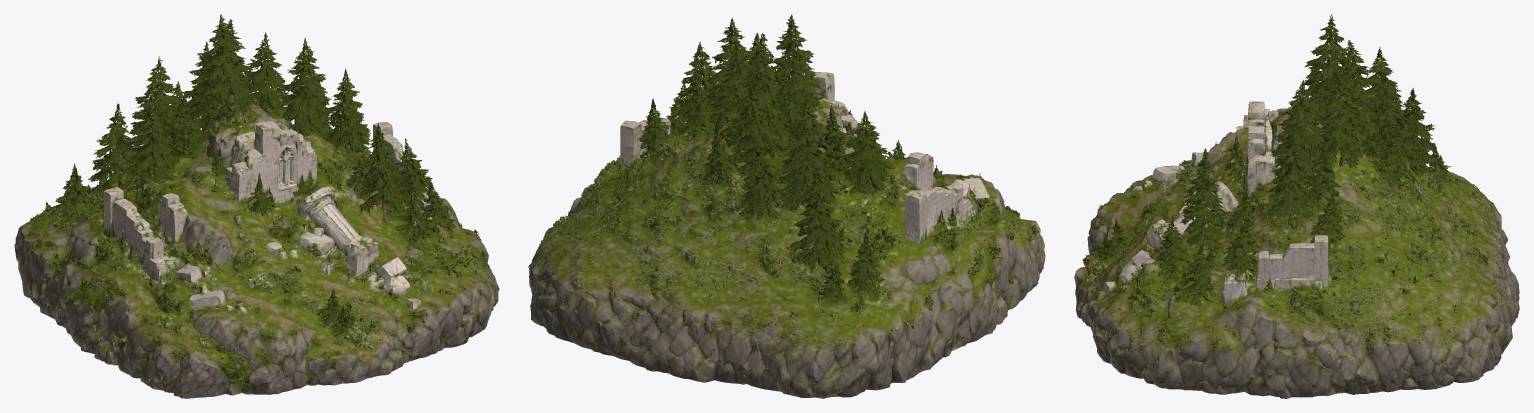
The model's file is white_terrain_props.glb.
3 views of the same model, side by side, from view 1: azimuth 30°, elevation 25°; view 2: azimuth 150°, elevation 25°; view 3: azimuth 270°, elevation 25° (orthographic). The views are drawn at different scales.
Parts seen in each view (by area): view 1: Mesh_0; view 2: Mesh_0; view 3: Mesh_0.
Part boxes in pixels (<box>): Mesh_0: <box>14,14,499,398</box>; Mesh_0: <box>528,14,1045,398</box>; Mesh_0: <box>1074,14,1519,398</box>.
Bounding box in the file's own units: 1.9 × 1.34 × 1.91.
Materials: 1 (1 with a texture image).
